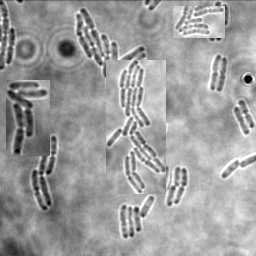Dividing: (175, 167, 189, 204), (238, 99, 255, 128), (209, 54, 222, 90), (217, 56, 228, 92), (7, 27, 17, 64)
Microcolony: (106, 60, 166, 194), (76, 7, 147, 98), (6, 80, 50, 156), (32, 135, 57, 211), (173, 6, 225, 38), (120, 195, 155, 238)
Rod: (233, 106, 251, 135), (222, 157, 240, 178), (158, 165, 170, 190), (167, 184, 177, 206), (174, 166, 183, 187)
